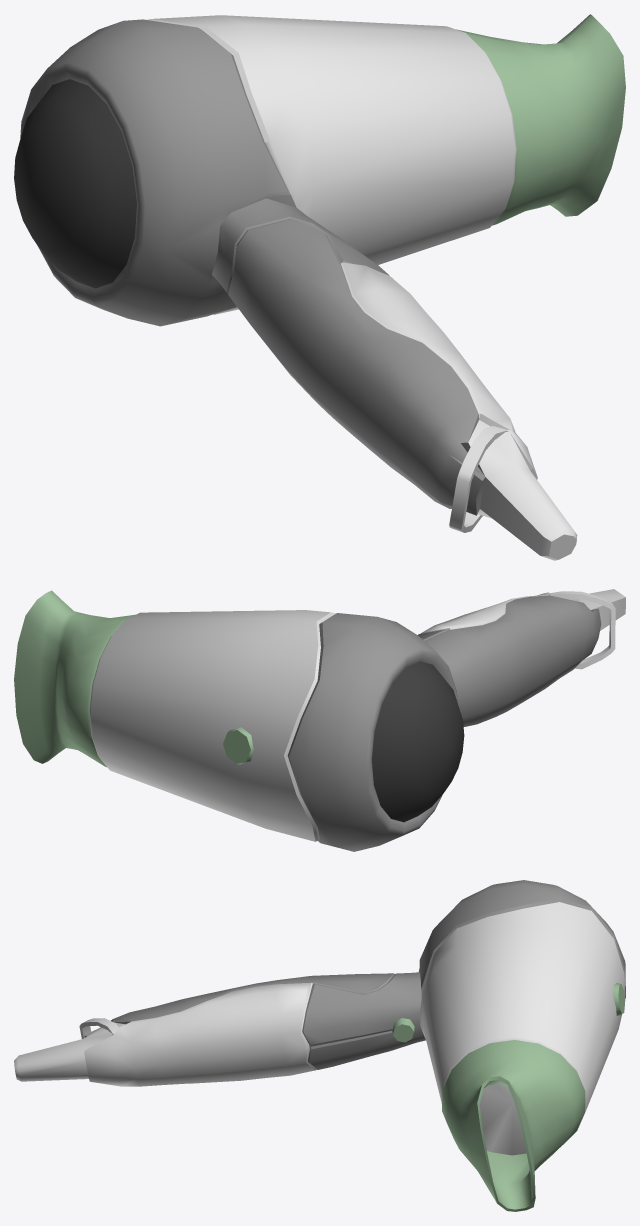
File: PHLIPHP4887.FBX
3 renders of one model, top to bottom at view 1: azimuth 30°, elevation 25°; view 2: azimuth 150°, elevation 25°; view 3: azimuth 270°, elevation 25°, orthographic. The views are drawn at different scales.
Parts seen in each view (by area): view 1: PHLIPHP4887; view 2: PHLIPHP4887; view 3: PHLIPHP4887.
Boxes of the visible parts, <box> form: PHLIPHP4887: <box>14,14,625,560</box>; PHLIPHP4887: <box>14,589,625,851</box>; PHLIPHP4887: <box>14,880,625,1211</box>.
Bounding box in the file's own units: 15.97 × 22.02 × 7.6.
